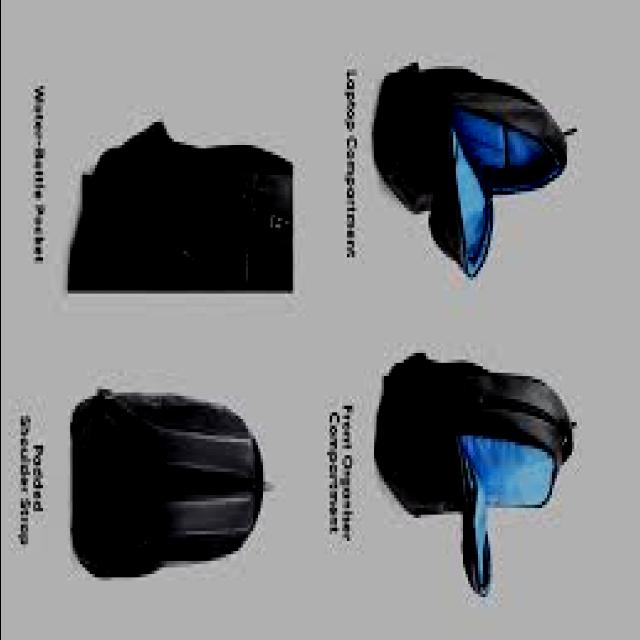backpack: (374, 351, 579, 599), (374, 60, 579, 278), (70, 120, 295, 292), (73, 387, 273, 579)
